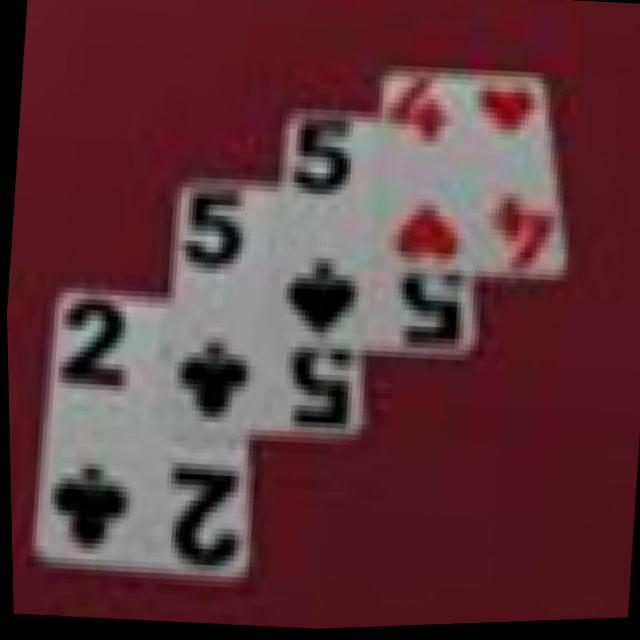Card-2: (25, 290, 249, 582)
Card-4: (383, 76, 562, 279)
Card-5: (166, 184, 363, 440), (277, 107, 473, 359)
